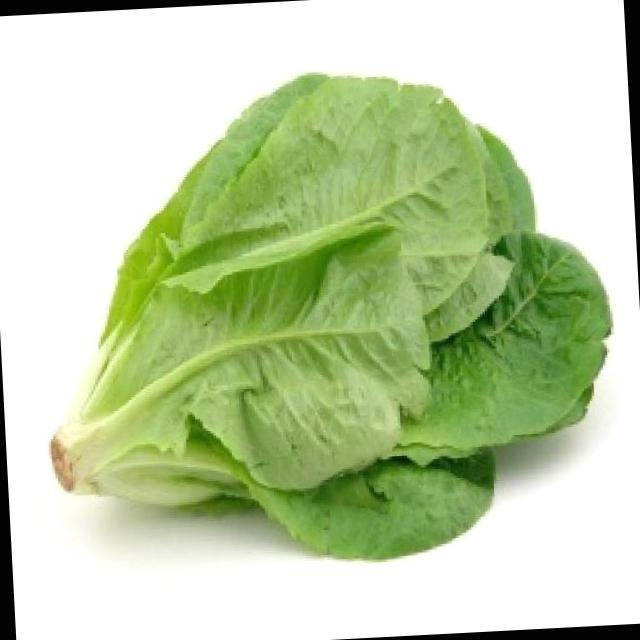Lettuce-Ready-to-Harvest: (51, 75, 611, 557)
